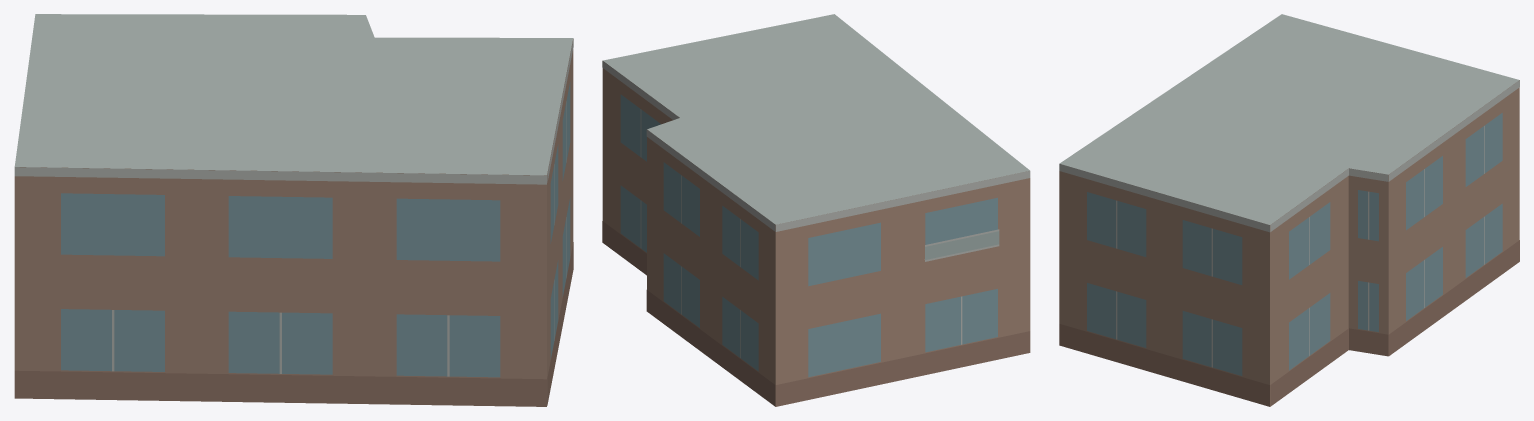
Rendered from survey-upis-32667798.glb.
3 views of the same model, side by side, from view 1: azimuth 30°, elevation 25°; view 2: azimuth 150°, elevation 25°; view 3: azimuth 270°, elevation 25° (orthographic). The views are drawn at different scales.
Parts seen in each view (by area): view 1: survey-upis-32667798.tmp; view 2: survey-upis-32667798.tmp; view 3: survey-upis-32667798.tmp.
Part boxes in pixels (x1,y1,x2,y2): survey-upis-32667798.tmp: (14, 14, 573, 406); survey-upis-32667798.tmp: (602, 14, 1030, 406); survey-upis-32667798.tmp: (1059, 14, 1519, 406).
Size of the model in its own units: 15.21 by 6.1 by 14.02.
